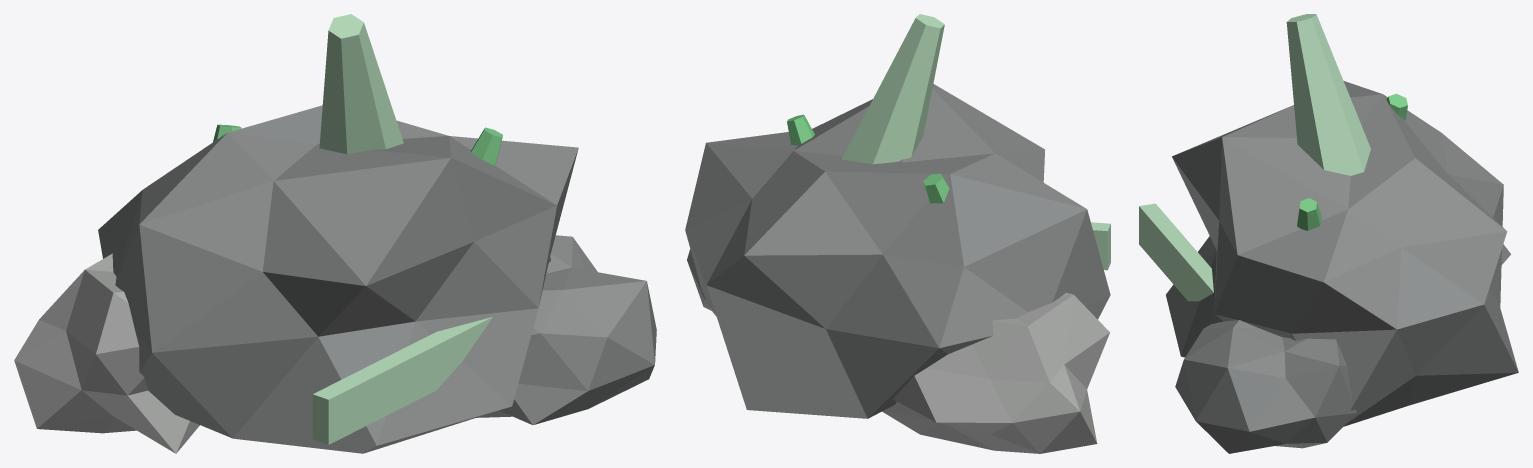
Rendered from t3_ore_full.glb.
The picture shows the model from 3 angles, left to right: view 1: azimuth 30°, elevation 25°; view 2: azimuth 150°, elevation 25°; view 3: azimuth 270°, elevation 25°; orthographic projection. The views are drawn at different scales.
Parts seen in each view (by area): view 1: OreHostCenter, OreHostLeft, OreHostRight, FrontOreVein, CenterOreShard, RightOreShard; view 2: OreHostCenter, OreHostLeft, CenterOreShard, FrontOreVein, RightOreShard, LeftOreShard; view 3: OreHostCenter, OreHostRight, CenterOreShard, FrontOreVein, RightOreShard.
Part boxes in pixels (x1=…): OreHostCenter: x1=98, y1=105, x2=578, y2=453; OreHostLeft: x1=14, y1=253, x2=199, y2=453; OreHostRight: x1=476, y1=235, x2=656, y2=424; FrontOreVein: x1=312, y1=317, x2=492, y2=444; CenterOreShard: x1=319, y1=14, x2=403, y2=154; RightOreShard: x1=471, y1=127, x2=502, y2=165; OreHostCenter: x1=685, y1=84, x2=1110, y2=418; OreHostLeft: x1=882, y1=292, x2=1109, y2=453; CenterOreShard: x1=841, y1=14, x2=944, y2=164; FrontOreVein: x1=1091, y1=222, x2=1110, y2=270; RightOreShard: x1=787, y1=114, x2=814, y2=145; LeftOreShard: x1=923, y1=173, x2=949, y2=203; OreHostCenter: x1=1166, y1=81, x2=1518, y2=426; OreHostRight: x1=1175, y1=320, x2=1356, y2=453; CenterOreShard: x1=1286, y1=14, x2=1370, y2=175; FrontOreVein: x1=1139, y1=203, x2=1213, y2=301; RightOreShard: x1=1297, y1=198, x2=1321, y2=230.
Size of the model in its own units: 1.48 by 1.1 by 1.08.
